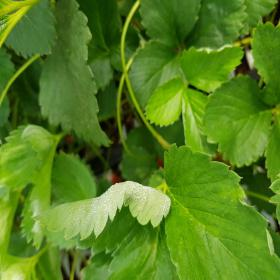Powdery Mildew Leaf: (30, 181, 171, 255)
